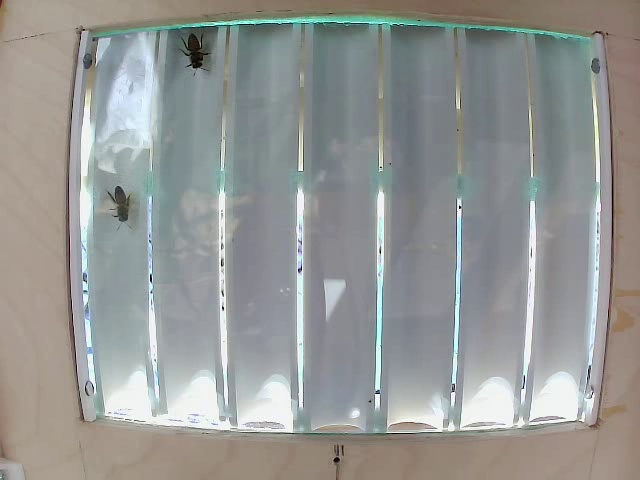bee: (97, 178, 142, 233), (175, 30, 224, 70)
